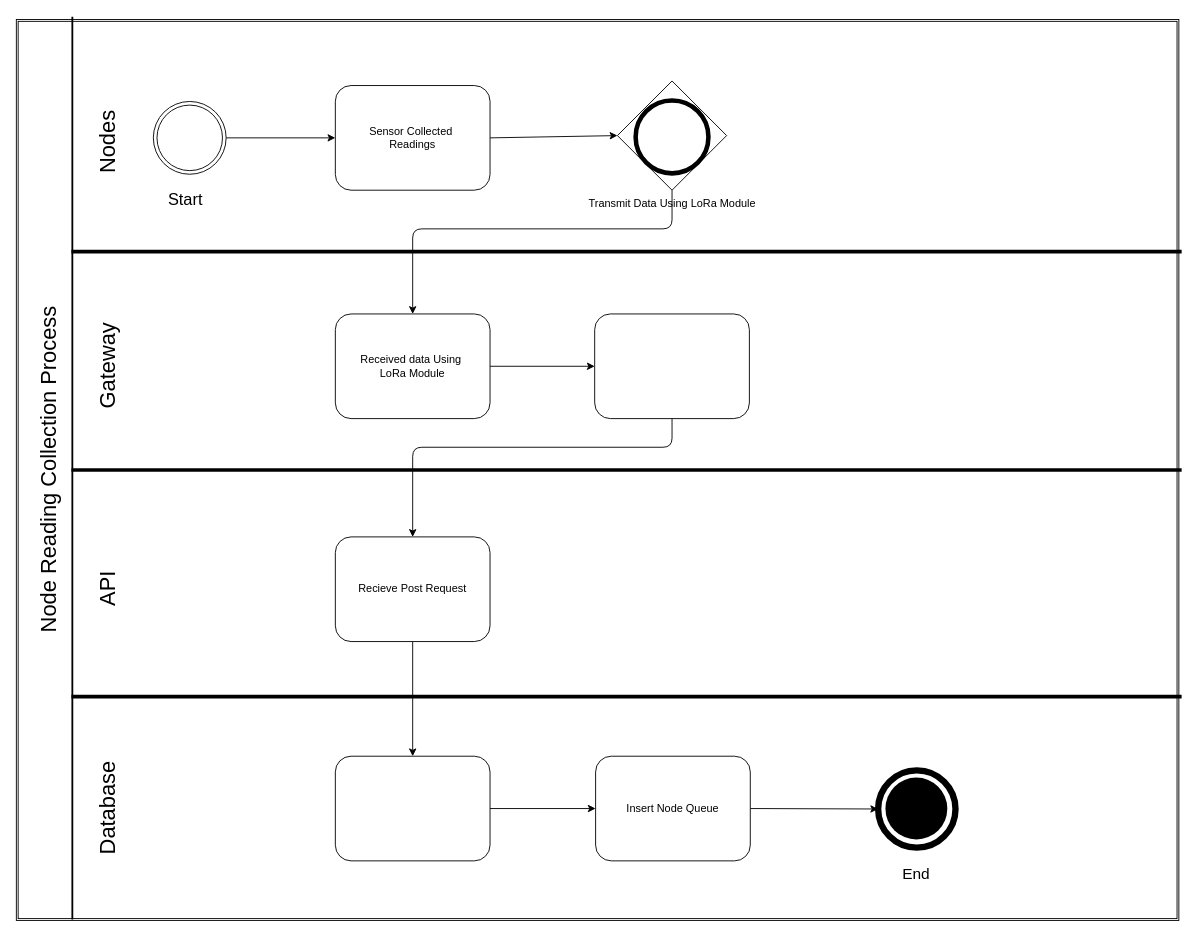
Some shapes in this 1199 by 936 pixel diagram are drawn without their labels. The shapes that lost their labels are listed below. From the top down, each one's centre as x and y in pixels, then its label:
(x=671, y=366): Request for Post Method
(x=412, y=808): Insert Row Readings
